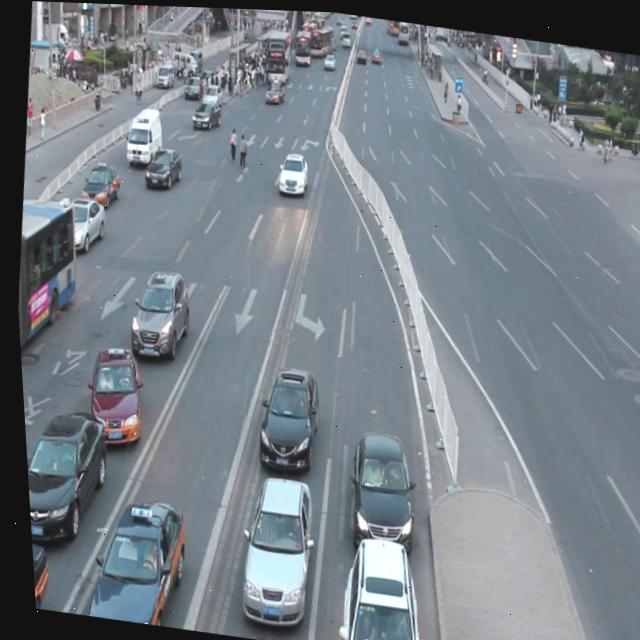car: (71, 478, 188, 628), (225, 459, 317, 621), (18, 396, 109, 542), (325, 520, 427, 640), (336, 413, 418, 544), (246, 352, 321, 467), (78, 334, 146, 443), (120, 255, 193, 356), (61, 193, 106, 254), (76, 159, 121, 211), (139, 142, 183, 189), (272, 146, 309, 195), (25, 527, 46, 609)
truck: (121, 103, 165, 165)
van: (9, 192, 83, 375)
